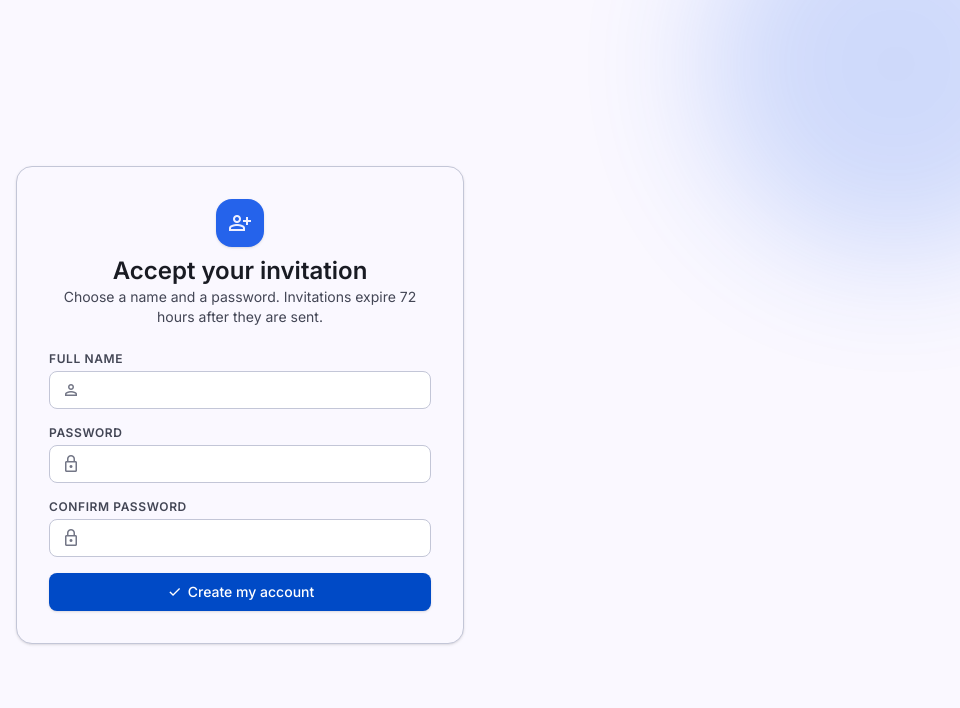
Test: AcceptInvitePage › renders the server password-policy violations through the shared translator
In the field labelled "Full name": (240, 390) 49,371 -> 431,409, type "Ana Nguyen"
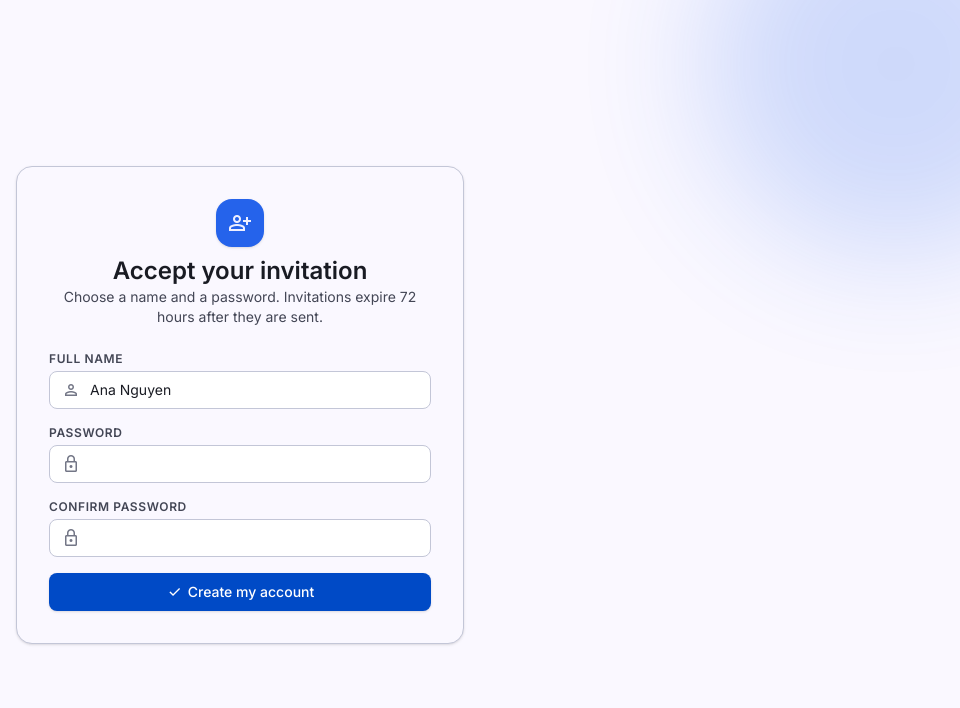
In the password field labelled "Password": (240, 464) 49,445 -> 431,483, type "Str0ng-Passw0rd!"
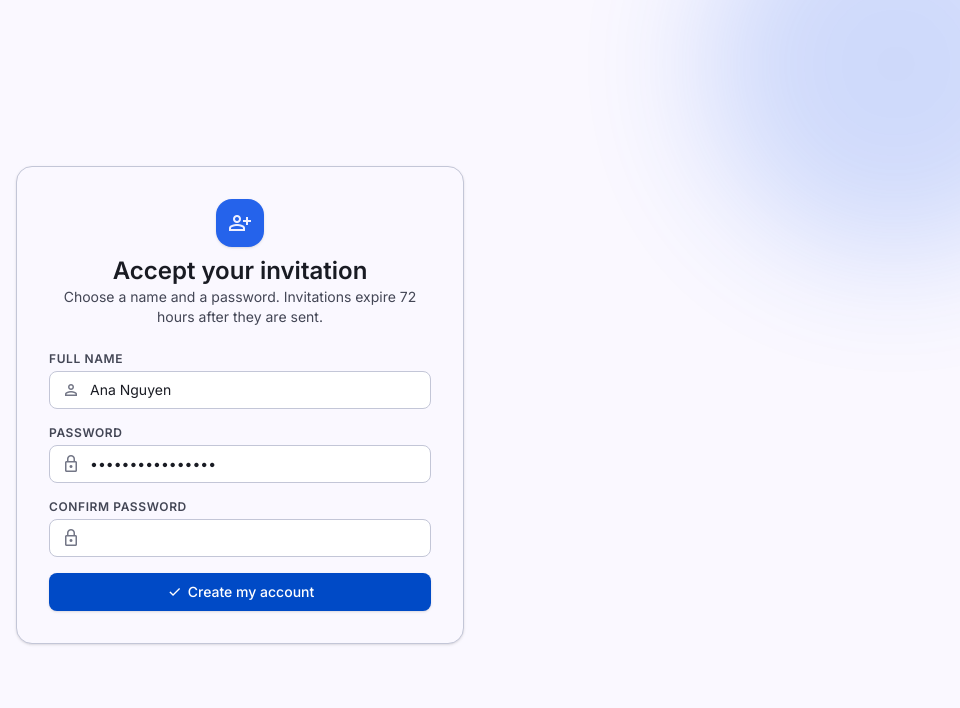
In the password field labelled "Confirm password": (240, 538) 49,519 -> 431,557, type "Str0ng-Passw0rd!"
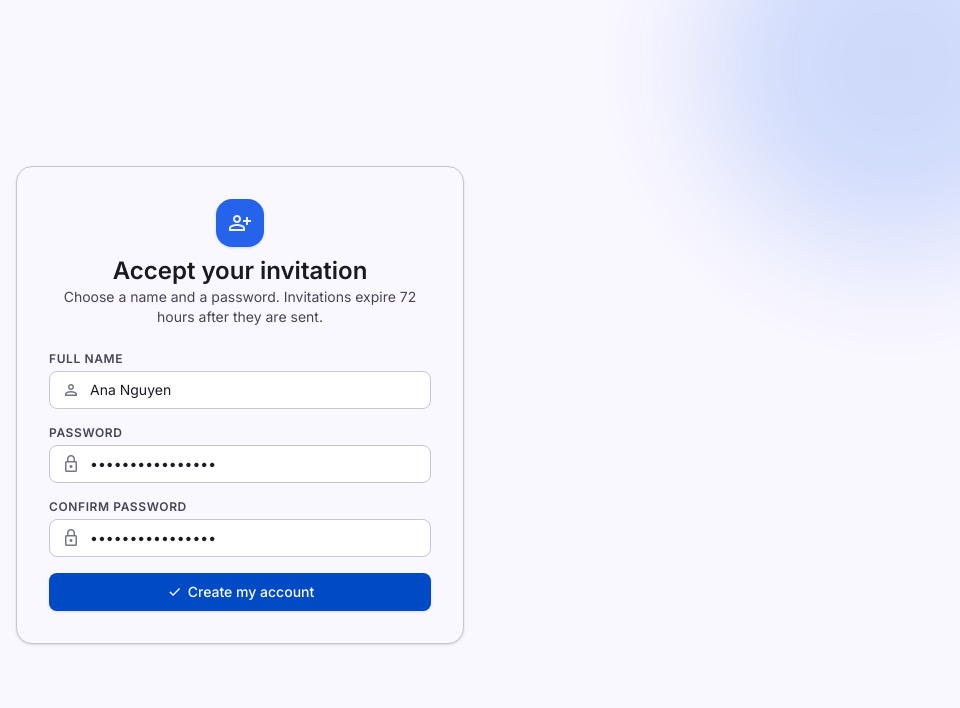
Click the button "Create my account": (240, 592) 49,573 -> 431,611
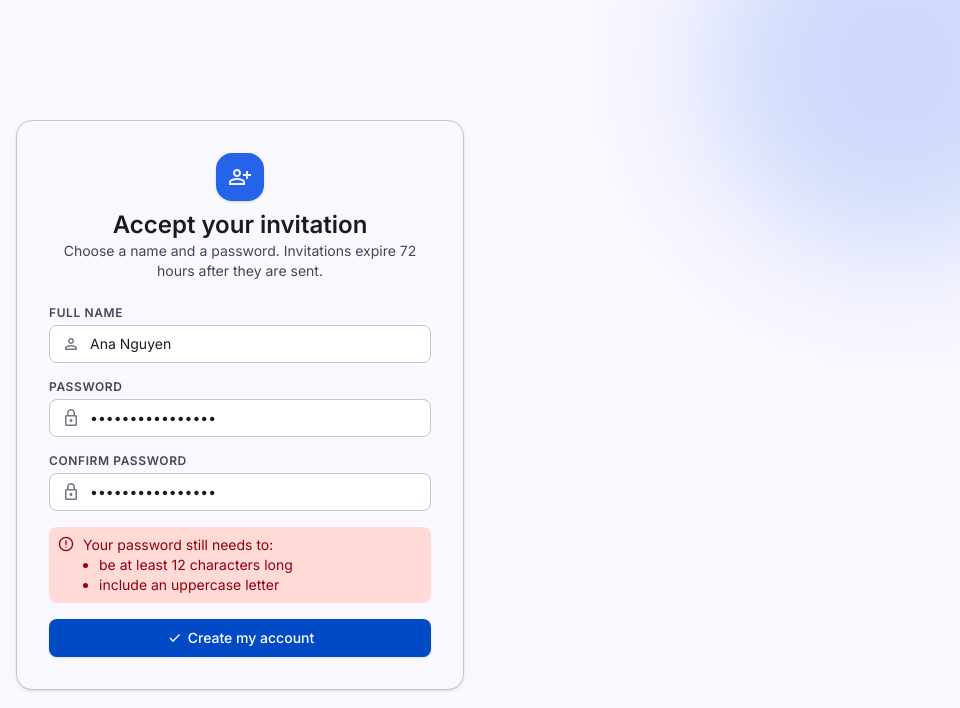
Expected: the list item "be at least 12 characters long" is shown, 99,555 -> 293,575
Expected: the list item "include an uppercase letter" is shown, 99,575 -> 293,595
